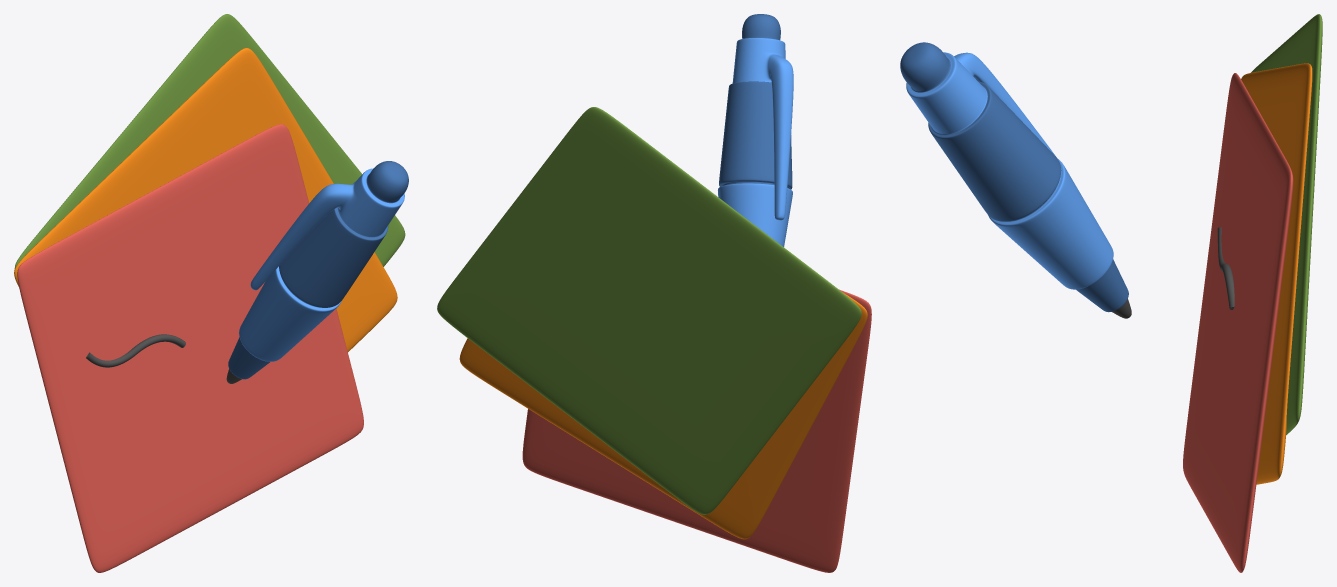
3 views of the same model, side by side, from view 1: azimuth 30°, elevation 25°; view 2: azimuth 150°, elevation 25°; view 3: azimuth 270°, elevation 25° (orthographic). The views are drawn at different scales.
Parts seen in each view (by area): view 1: Plane.012, Plane.013, Circle.007, Plane.014, NurbsPath.010; view 2: Plane.014, Plane.012, Circle.007, Plane.013; view 3: Plane.012, Circle.007, Plane.013, Plane.014, NurbsPath.010.
Part boxes in pixels (left/top/right/bottom): Plane.012: left=17, top=124, right=363, bottom=572; Plane.013: left=14, top=48, right=397, bottom=351; Circle.007: left=226, top=161, right=408, bottom=383; Plane.014: left=14, top=14, right=405, bottom=268; NurbsPath.010: left=86, top=334, right=185, bottom=367; Plane.014: left=437, top=107, right=861, bottom=514; Plane.012: left=522, top=289, right=871, bottom=572; Circle.007: left=718, top=14, right=793, bottom=246; Plane.013: left=459, top=291, right=867, bottom=539; Plane.012: left=1183, top=73, right=1293, bottom=572; Circle.007: left=900, top=42, right=1131, bottom=318; Plane.013: left=1241, top=63, right=1312, bottom=484; Plane.014: left=1251, top=14, right=1322, bottom=435; NurbsPath.010: left=1217, top=227, right=1234, bottom=309.
Size of the model in its own units: 16.58 by 18.03 by 12.26.
